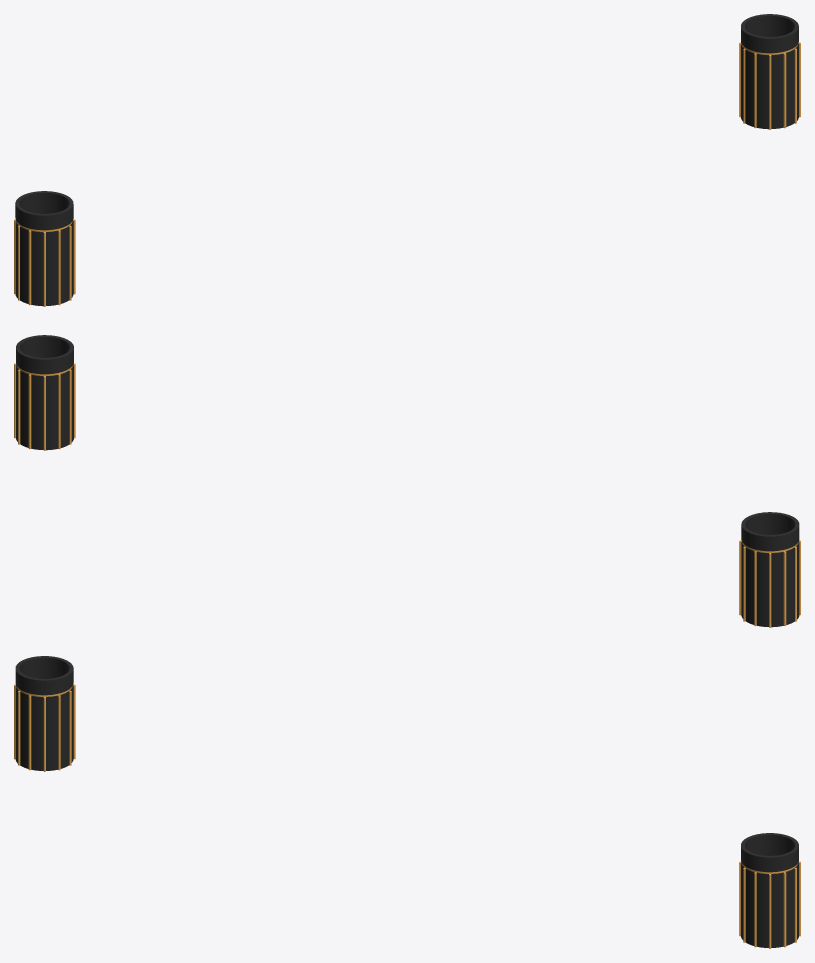
File: cylindrical_wall_lamp_draco (1).glb
3 views of the same model, one above another, from view 1: azimuth 30°, elevation 25°; view 2: azimuth 150°, elevation 25°; view 3: azimuth 330°, elevation 25° (orthographic).
Parts seen in each view (by area): view 1: Circle, Circle.001; view 2: Circle, Circle.001; view 3: Circle, Circle.001.
Part boxes in pixels (x1,y1,x2,y2): Circle: (14, 191, 75, 306); Circle.001: (739, 14, 800, 129); Circle: (739, 512, 800, 627); Circle.001: (14, 335, 75, 450); Circle: (14, 656, 75, 771); Circle.001: (739, 833, 800, 948).
Size of the model in its own units: 2.15 by 0.2386 by 0.147.
